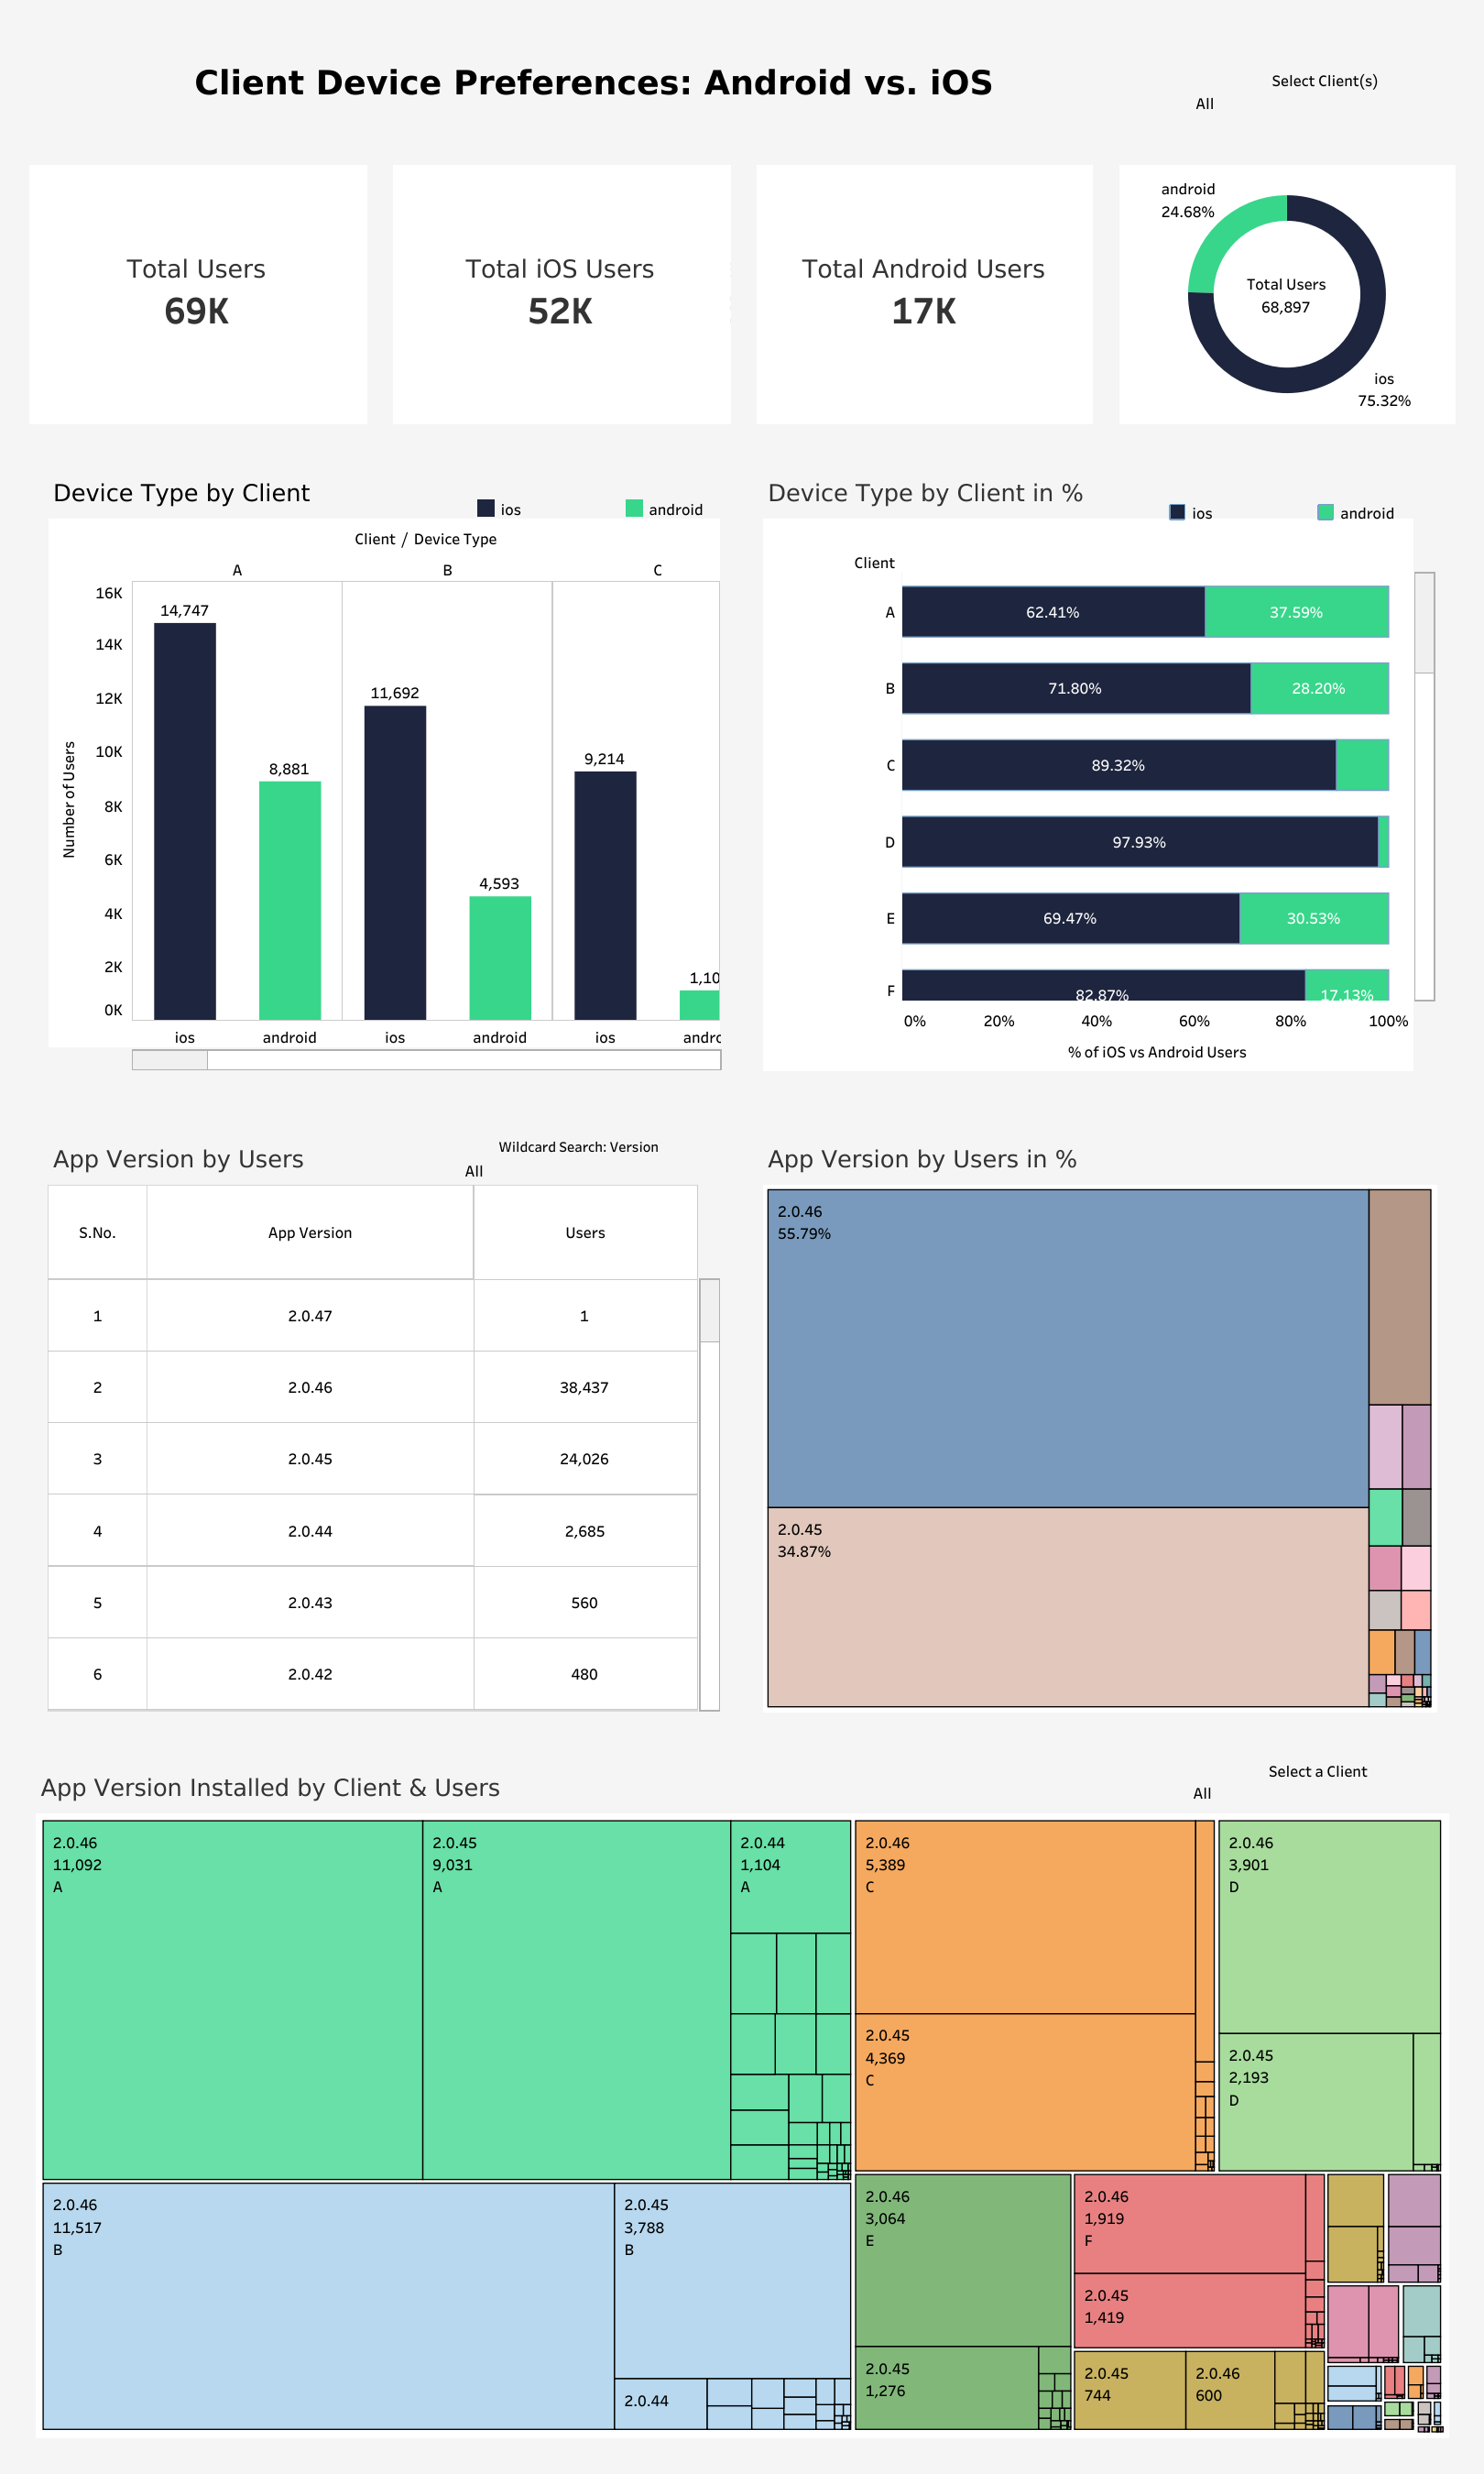

Layout of this report page (visuals, bound fields, positions):
{"tool":"tableau","page":{"name":"Device Type Dashbaord","canvas":[1700,2200],"ordinal":0},"visuals":[{"type":"text","box":[12,12,1379,70]},{"type":"filter","title":"Device Type by Client","param":"[federated.0lp01zo120yzr60zso90x1azr5vz].[none:Client:nk]","box":[1391,12,239,52]},{"type":"dashboard-object","box":[1639.9,15,43.1,62]},{"type":"worksheet","title":"Total Users","mark":"Automatic","box":[13,83,419,231]},{"type":"worksheet","title":"Total iOS Users","mark":"Automatic","box":[432,83,419,231]},{"type":"worksheet","title":"Total Android Users","mark":"Automatic","box":[851,83,418,231]},{"type":"worksheet","title":"Total Users Pie","mark":"Pie","rows":["Calculation_1809884149671948290","Calculation_1809884149671948290"],"box":[1269,83,418,231]},{"type":"worksheet","title":"Device Type by Client","mark":"Automatic","rows":["Users"],"cols":["Client","Device_Type"],"box":[22,325,828,575]},{"type":"worksheet","title":"Device Type by Client in %","mark":"Bar","rows":["Client"],"cols":["Users"],"box":[850,325,828,575]},{"type":"legend","title":"Device Type by Client in %","param":"[federated.0lp01zo120yzr60zso90x1azr5vz].[none:Device_Type:nk]","box":[1408,356,266,21]},{"type":"legend","title":"Device Type by Client","param":"[federated.0lp01zo120yzr60zso90x1azr5vz].[none:Device_Type:nk]","box":[598.2,368,276.2,23]},{"type":"worksheet","title":"Freespace App Version by Users ","mark":"Automatic","rows":["Calculation_1809884149774876681","Freespace_App_Version"],"box":[22,920,828,568]},{"type":"worksheet","title":"Freespace App Version Installed by Users","mark":"Square","box":[850,920,828,568]},{"type":"filter","title":"Freespace App Version by Users ","param":"[federated.0lp01zo120yzr60zso90x1azr5vz].[none:Freespace_App_Version:nk]","box":[511,929,299,53]},{"type":"worksheet","title":"Freespace App Version Installed by Client & Users","mark":"Square","box":[12,1498,1676,690]},{"type":"filter","title":"Freespace App Version Installed by Client & Users","param":"[federated.0lp01zo120yzr60zso90x1azr5vz].[none:Client:nk]","box":[1415,1506,253,69]}]}

Visuals, with their boxes on the page's 1700x2200 design canvas (x1, y1, x2, y2). These are canvas units, not pixel positions in the 1484x2474 screenshot, which may show the page scaled, cropped or inside an application window:
text: {"left": 12, "top": 12, "right": 1391, "bottom": 82}
"Device Type by Client" filter: {"left": 1391, "top": 12, "right": 1630, "bottom": 64}
dashboard-object: {"left": 1640, "top": 15, "right": 1683, "bottom": 77}
"Total Users" worksheet: {"left": 13, "top": 83, "right": 432, "bottom": 314}
"Total iOS Users" worksheet: {"left": 432, "top": 83, "right": 851, "bottom": 314}
"Total Android Users" worksheet: {"left": 851, "top": 83, "right": 1269, "bottom": 314}
"Total Users Pie" worksheet (Pie marks): {"left": 1269, "top": 83, "right": 1687, "bottom": 314}
"Device Type by Client" worksheet: {"left": 22, "top": 325, "right": 850, "bottom": 900}
"Device Type by Client in %" worksheet (Bar marks): {"left": 850, "top": 325, "right": 1678, "bottom": 900}
"Device Type by Client in %" legend: {"left": 1408, "top": 356, "right": 1674, "bottom": 377}
"Device Type by Client" legend: {"left": 598, "top": 368, "right": 874, "bottom": 391}
"Freespace App Version by Users " worksheet: {"left": 22, "top": 920, "right": 850, "bottom": 1488}
"Freespace App Version Installed by Users" worksheet (Square marks): {"left": 850, "top": 920, "right": 1678, "bottom": 1488}
"Freespace App Version by Users " filter: {"left": 511, "top": 929, "right": 810, "bottom": 982}
"Freespace App Version Installed by Client & Users" worksheet (Square marks): {"left": 12, "top": 1498, "right": 1688, "bottom": 2188}
"Freespace App Version Installed by Client & Users" filter: {"left": 1415, "top": 1506, "right": 1668, "bottom": 1575}
